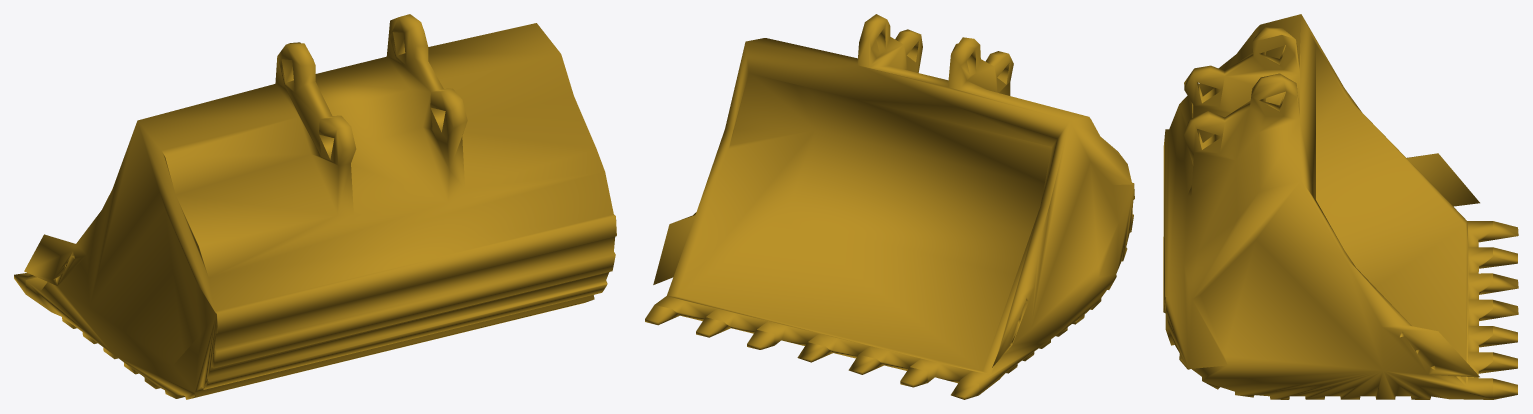
File: bucket-coll.fbx
3 views of the same model, side by side, from view 1: azimuth 30°, elevation 25°; view 2: azimuth 150°, elevation 25°; view 3: azimuth 270°, elevation 25° (orthographic). The views are drawn at different scales.
Parts seen in each view (by area): view 1: Bucket; view 2: Bucket; view 3: Bucket.
Boxes of the visible parts, x1=… form: Bucket: x1=14, y1=14, x2=616, y2=399; Bucket: x1=645, y1=14, x2=1134, y2=399; Bucket: x1=1163, y1=14, x2=1518, y2=399.
Bounding box in the file's own units: 103 × 71.59 × 86.97.
